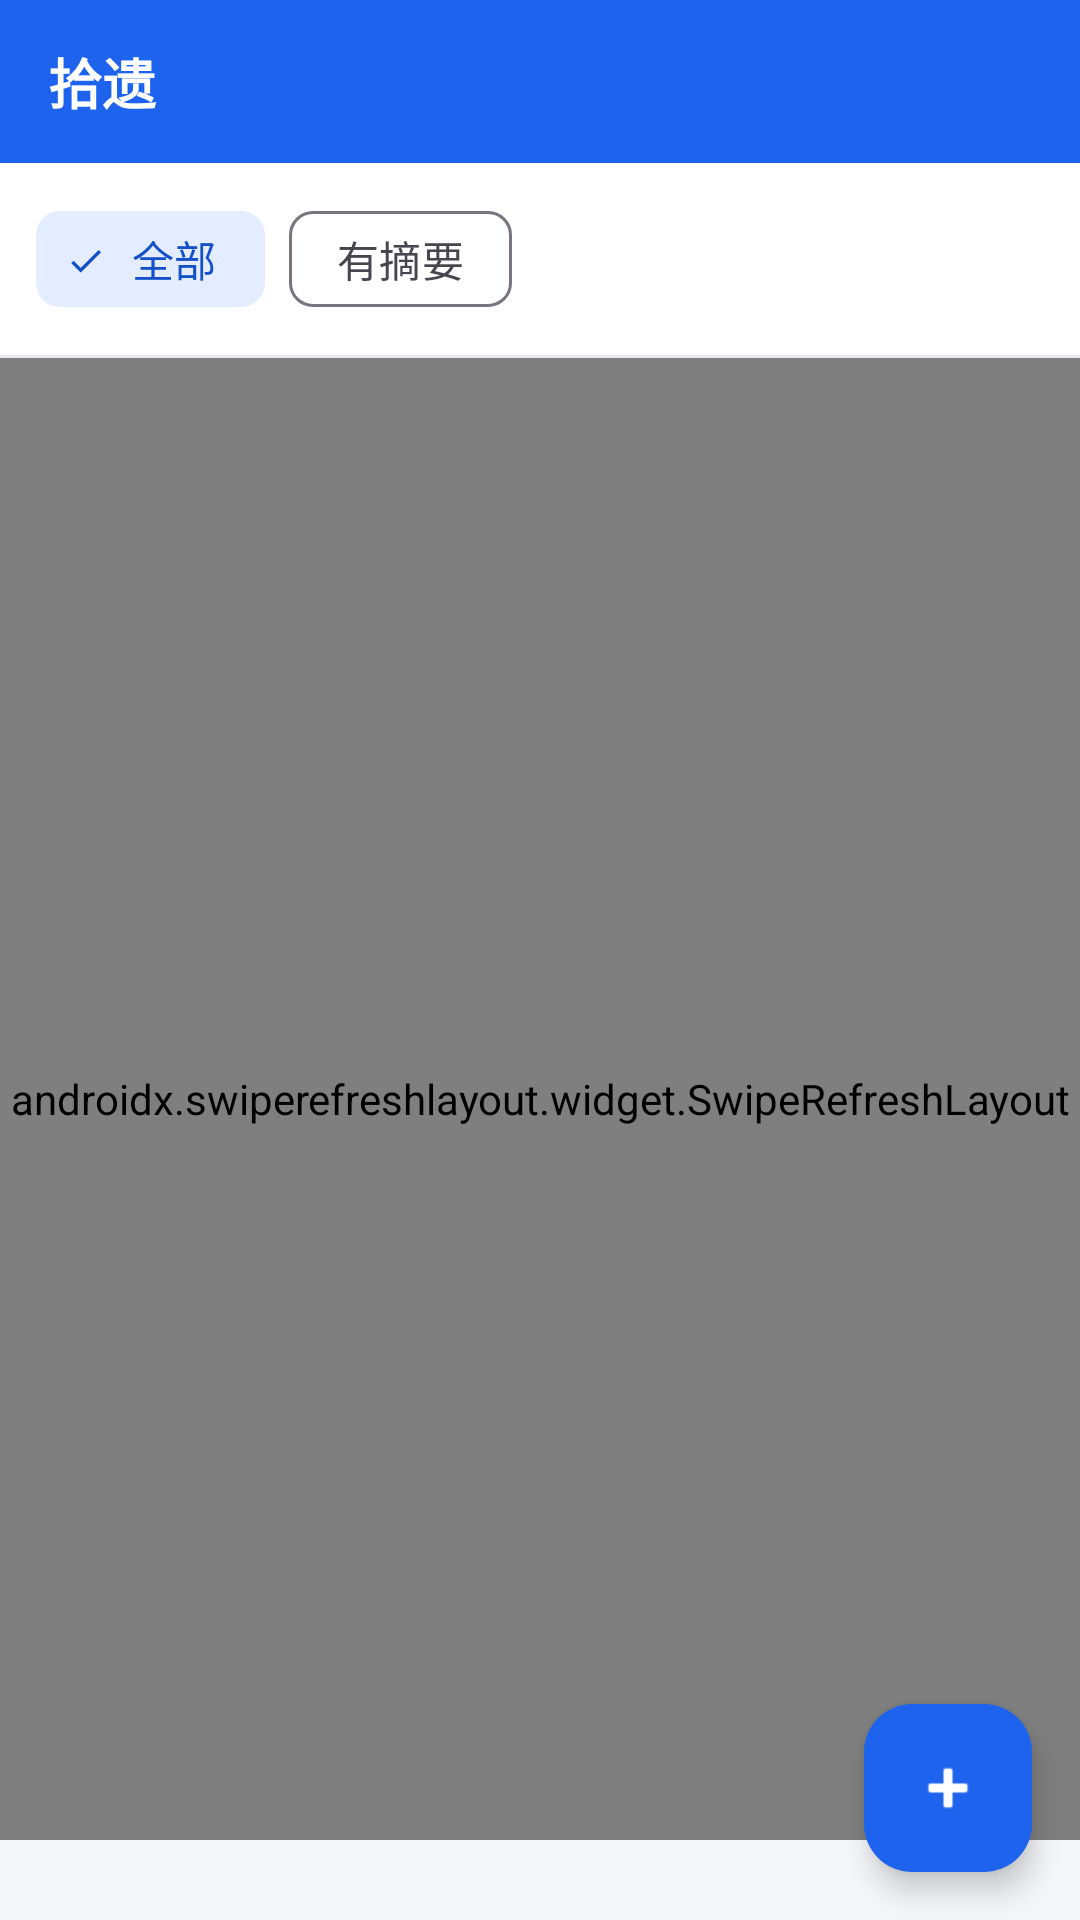

Named icons in this screenshot (1080 x 1920) and their bounding boxes, bbox=[x1, y1, x2, y2]:
手动导入: bbox=[864, 1704, 1032, 1872]
